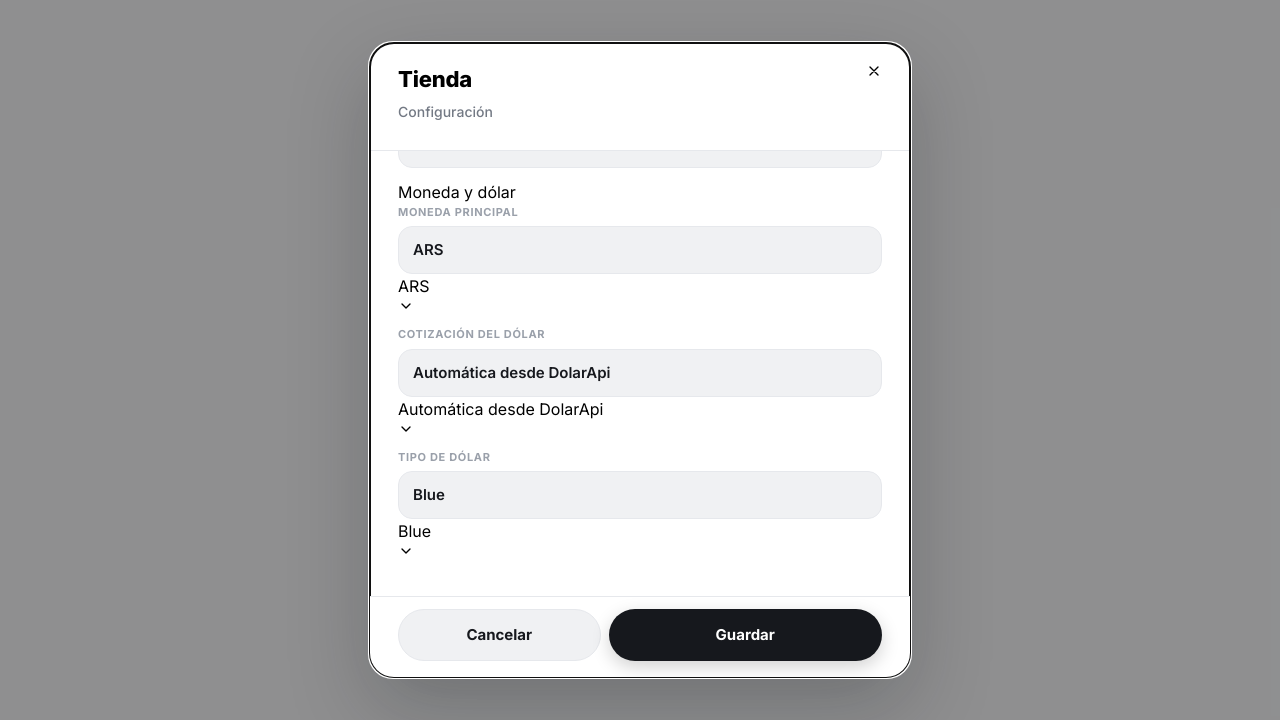
it: store manual quote › blocks compra 1400 and venta 1300 on phone
(page scrolled)
Check: the heading "Tienda" is shown, box [398,66,472,92]
Click the dropdown with test id "store-exchange-mode". click: {"x": 501, "y": 417}
box: [398,397,603,437]
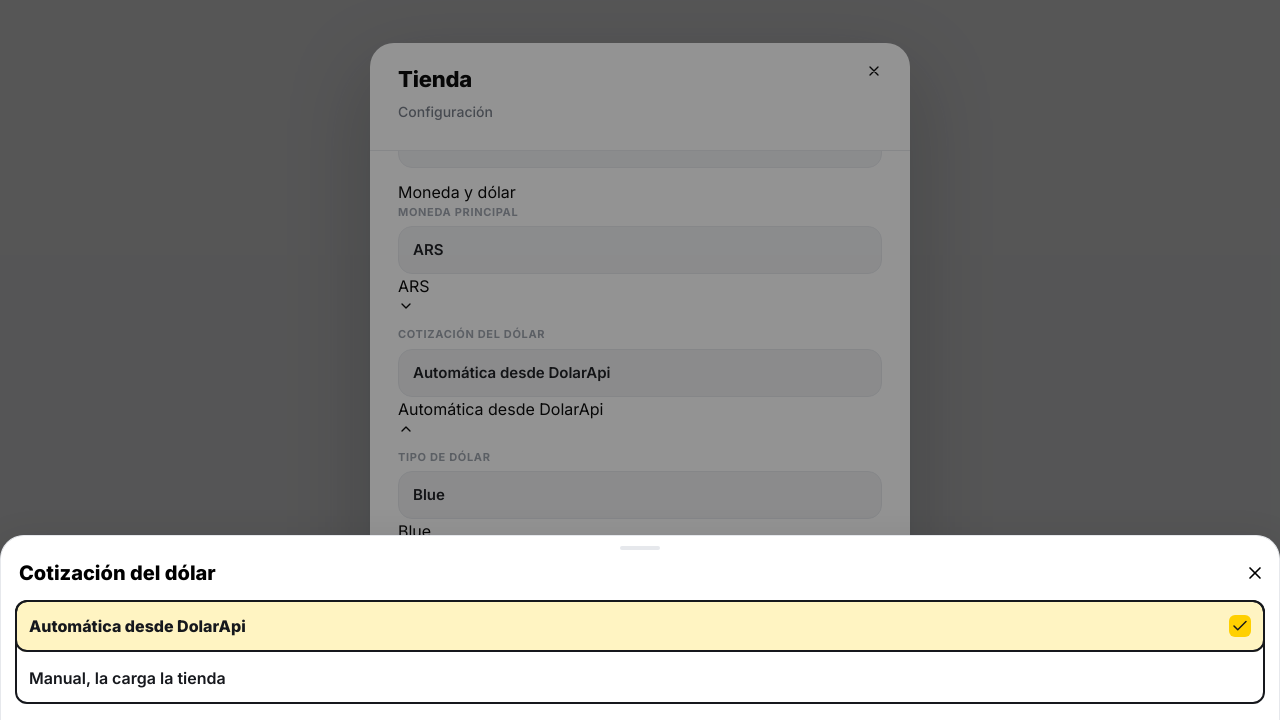
Click the option "Manual, la carga la tienda". click: {"x": 127, "y": 678}
box: [29,668,226,688]
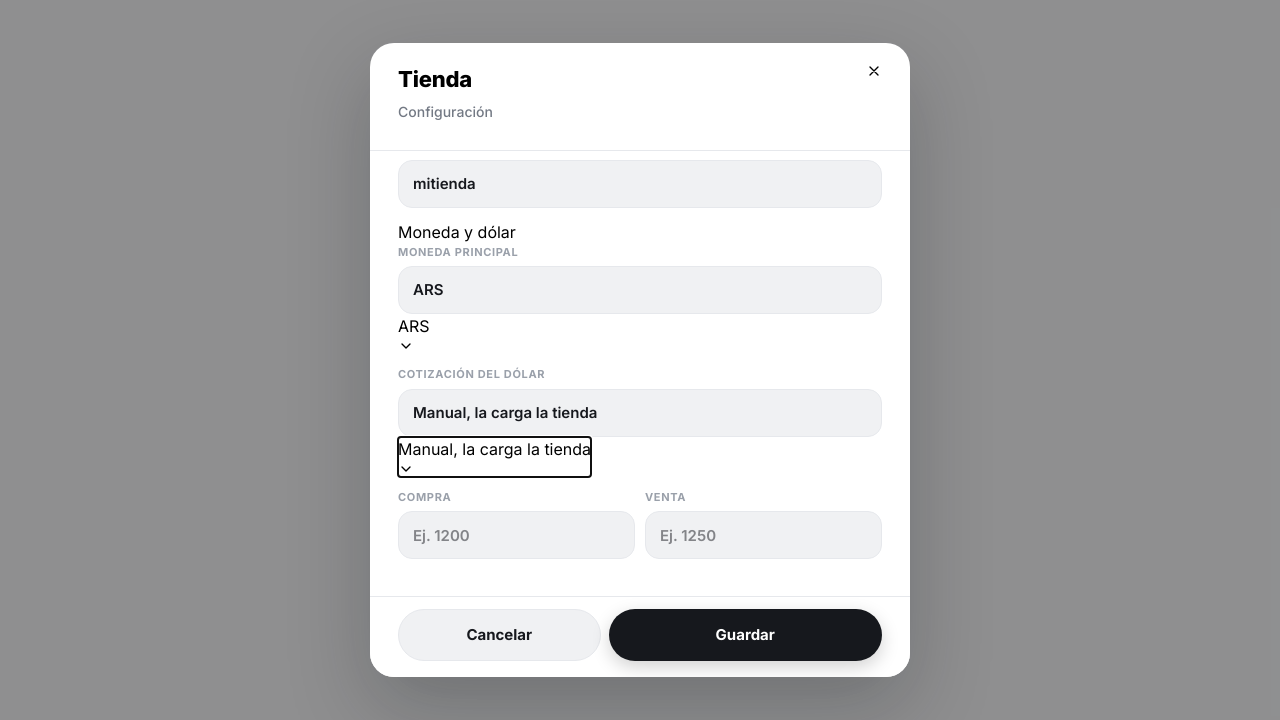
Type "1400" into the field with test id "store-manual-buy". click: {"x": 516, "y": 535}
box: [398,511,635,559]
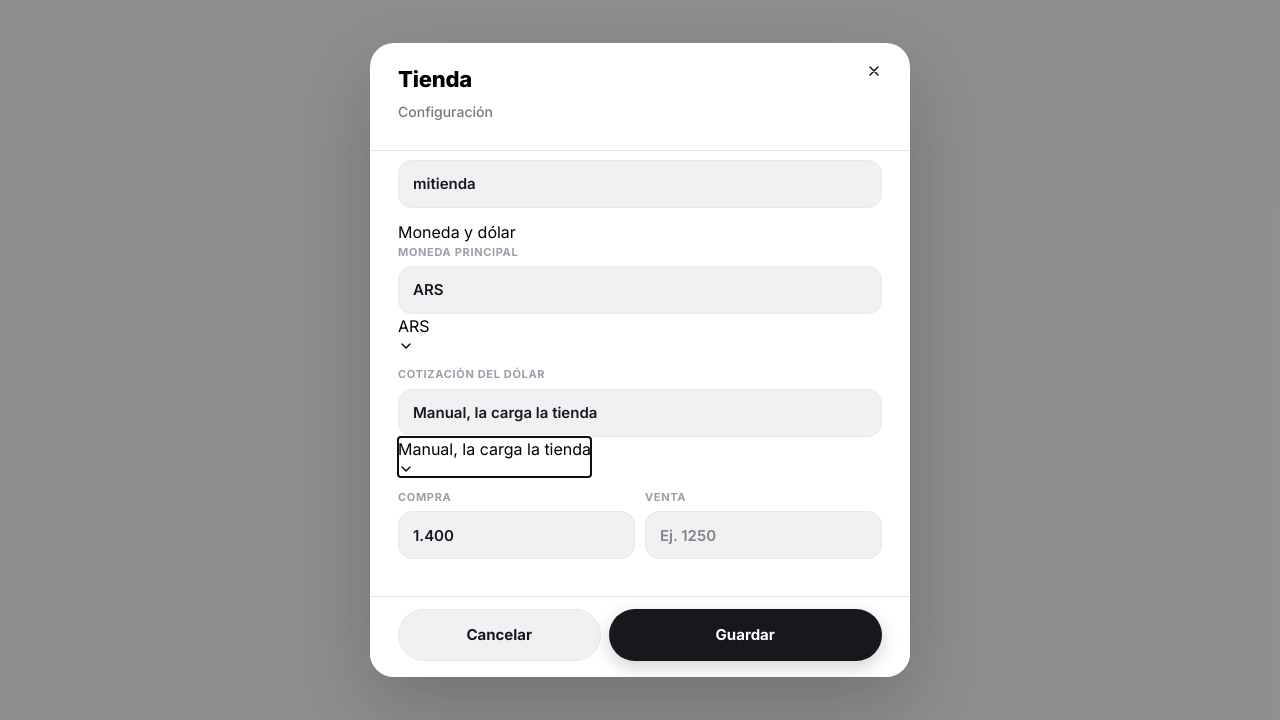
Type "1300" into the field with test id "store-manual-sell". click: {"x": 764, "y": 535}
box: [645,511,882,559]
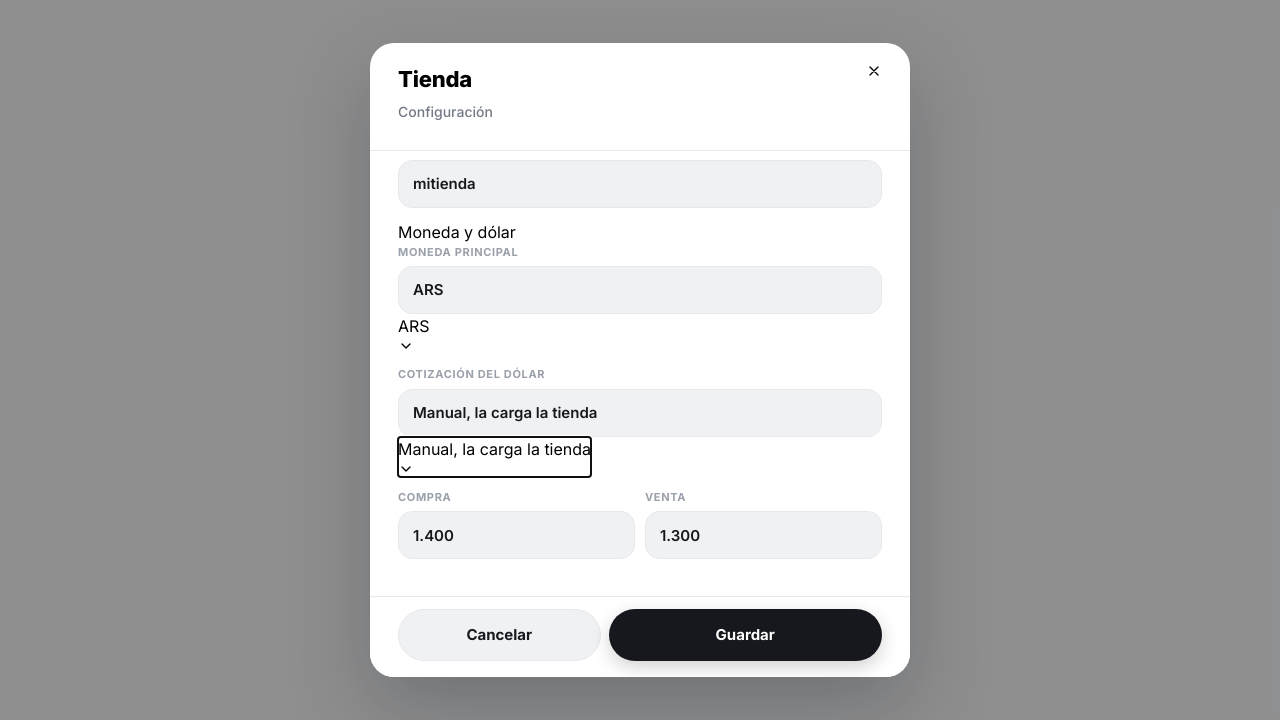
Click the button "Guardar". click: {"x": 745, "y": 635}
box: [608,609,882,661]
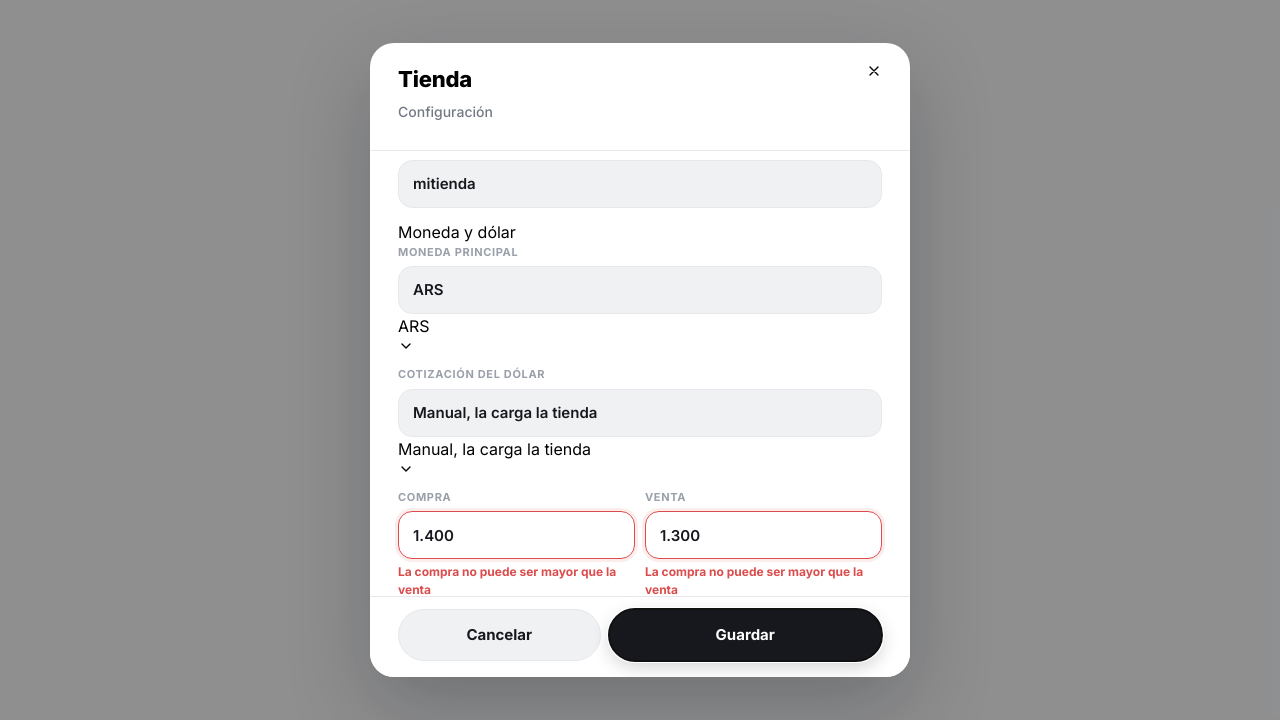
Check: the dialog "Tienda" is shown, box [370,43,910,677]
Check: the text "La compra no puede ser mayor que la venta" is shown 2 times, box [398,563,635,596]; [645,563,882,596]
